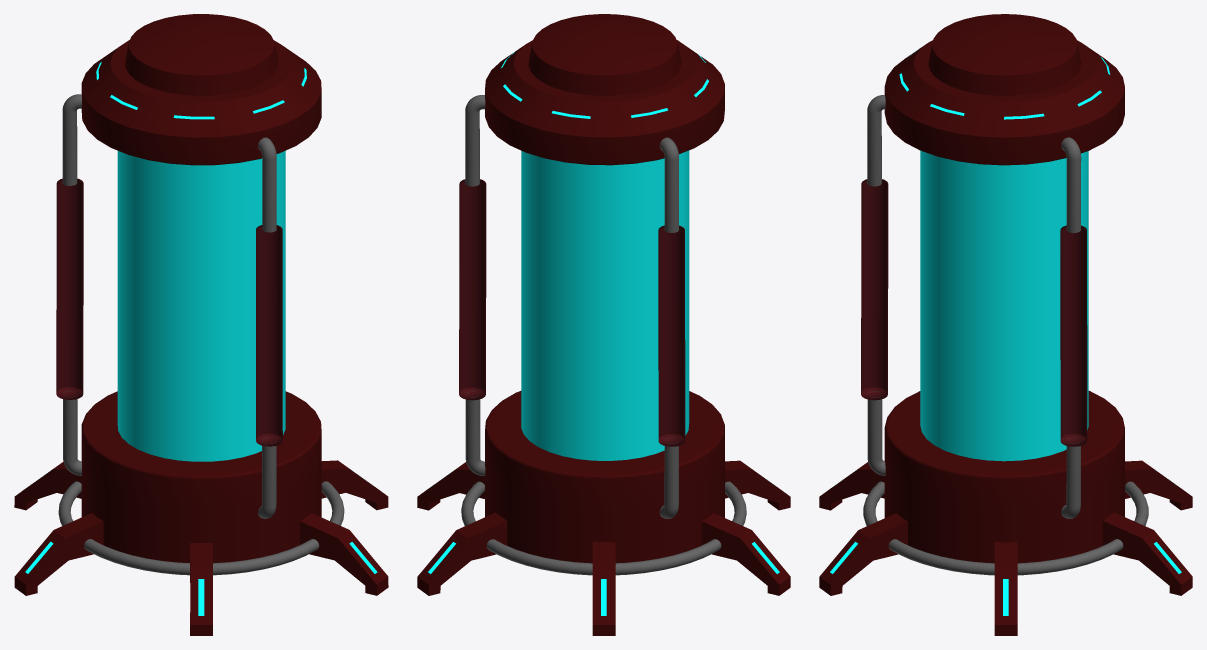
3 views of the same model, side by side, from view 1: azimuth 30°, elevation 25°; view 2: azimuth 150°, elevation 25°; view 3: azimuth 270°, elevation 25° (orthographic).
Visible parts, largest first — view 1: cockpit_canopy, Cylinder, Cylinder.007, Cylinder.009, Cylinder.016, Torus.002, Cylinder.029, Cylinder.005, Cylinder.003, Cylinder.002, Cylinder.006, Cylinder.004 (+1 smaller); view 2: cockpit_canopy, Cylinder, Cylinder.007, Cylinder.017, Cylinder.009, Torus.002, Cylinder.018, Cylinder.029, Cylinder.001, Cylinder.003, Cylinder.025, Cylinder.006 (+1 smaller); view 3: cockpit_canopy, Cylinder, Cylinder.007, Cylinder.017, Cylinder.016, Torus.002, Cylinder.018, Cylinder.005, Cylinder.002, Cylinder.001, Cylinder.004, Cylinder.025 (+1 smaller).
Boxes of the visible parts, x1=… form: cockpit_canopy: x1=117, y1=151, x2=285, y2=461; Cylinder: x1=81, y1=14, x2=321, y2=165; Cylinder.007: x1=81, y1=391, x2=321, y2=563; Cylinder.009: x1=56, y1=178, x2=83, y2=399; Cylinder.016: x1=256, y1=225, x2=282, y2=446; Torus.002: x1=58, y1=481, x2=344, y2=575; Cylinder.029: x1=14, y1=513, x2=103, y2=595; Cylinder.005: x1=300, y1=513, x2=388, y2=595; Cylinder.003: x1=62, y1=94, x2=81, y2=475; Cylinder.002: x1=258, y1=137, x2=276, y2=518; Cylinder.006: x1=190, y1=543, x2=212, y2=635; Cylinder.004: x1=321, y1=460, x2=388, y2=510; cockpit_canopy: x1=521, y1=150, x2=689, y2=460; Cylinder: x1=485, y1=14, x2=724, y2=165; Cylinder.007: x1=485, y1=391, x2=724, y2=563; Cylinder.017: x1=459, y1=179, x2=486, y2=400; Cylinder.009: x1=658, y1=225, x2=685, y2=446; Torus.002: x1=461, y1=481, x2=746, y2=575; Cylinder.018: x1=417, y1=512, x2=507, y2=595; Cylinder.029: x1=701, y1=513, x2=790, y2=595; Cylinder.001: x1=465, y1=95, x2=485, y2=475; Cylinder.003: x1=659, y1=137, x2=678, y2=518; Cylinder.025: x1=592, y1=541, x2=615, y2=635; Cylinder.006: x1=725, y1=460, x2=790, y2=510; cockpit_canopy: x1=920, y1=150, x2=1088, y2=461; Cylinder: x1=884, y1=14, x2=1124, y2=165; Cylinder.007: x1=884, y1=390, x2=1124, y2=563; Cylinder.017: x1=1060, y1=225, x2=1087, y2=446; Cylinder.016: x1=861, y1=179, x2=888, y2=400; Torus.002: x1=863, y1=481, x2=1148, y2=575; Cylinder.018: x1=1102, y1=512, x2=1192, y2=595; Cylinder.005: x1=819, y1=513, x2=907, y2=595; Cylinder.002: x1=867, y1=95, x2=885, y2=475; Cylinder.001: x1=1061, y1=137, x2=1081, y2=518; Cylinder.004: x1=994, y1=541, x2=1017, y2=635; Cylinder.025: x1=1125, y1=460, x2=1192, y2=510.
Size of the model in its own units: 11.88 by 16.22 by 10.62.
